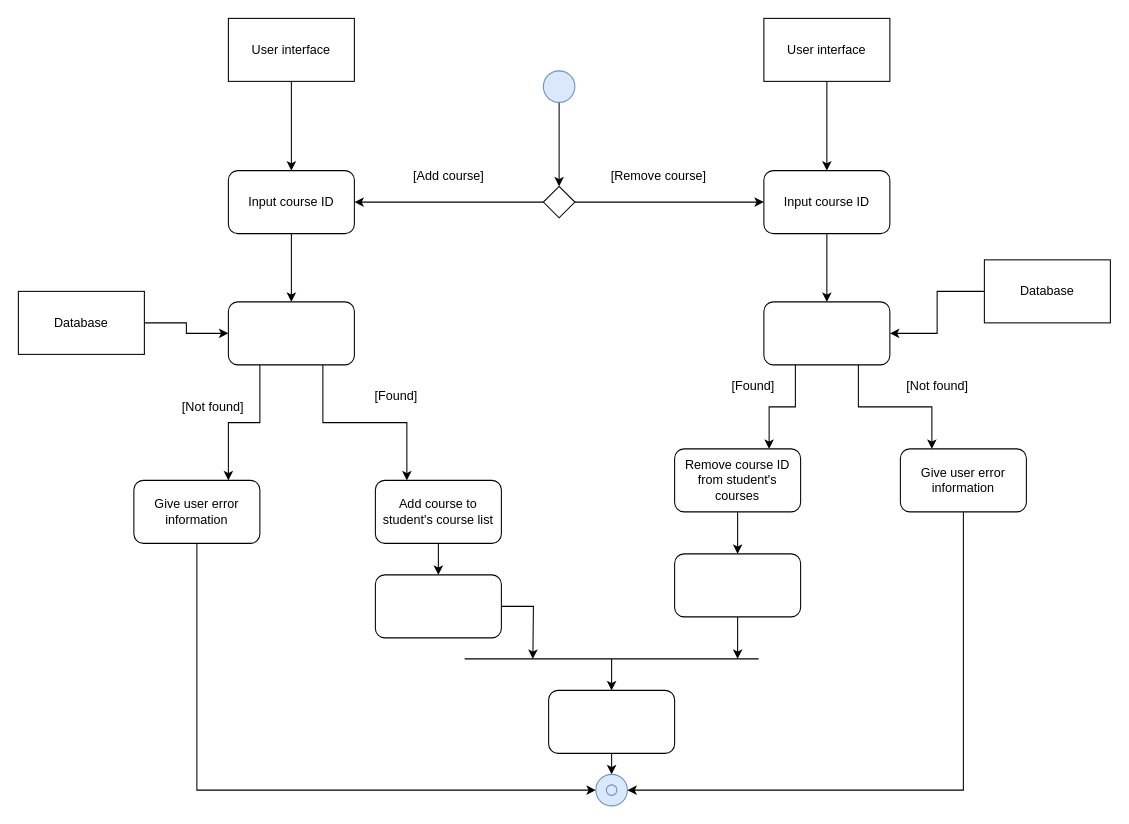
The diagram is 1129 pixels wide and 824 high, and some of its shapes have lost their labels. The centre of each missing label's shape, as x and y in pixels:
"Add user to course roster" belongs at pixel 437 606.
"Check for course in student's courses" belongs at pixel 826 333.
"Find course in course table" belongs at pixel 290 333.
"Give confirmation to user" belongs at pixel 611 721.
"Remove User from course Roster" belongs at pixel 737 585.
